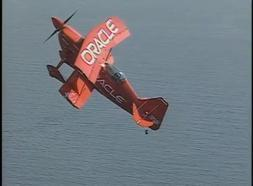aircraft: (42, 9, 170, 136)
